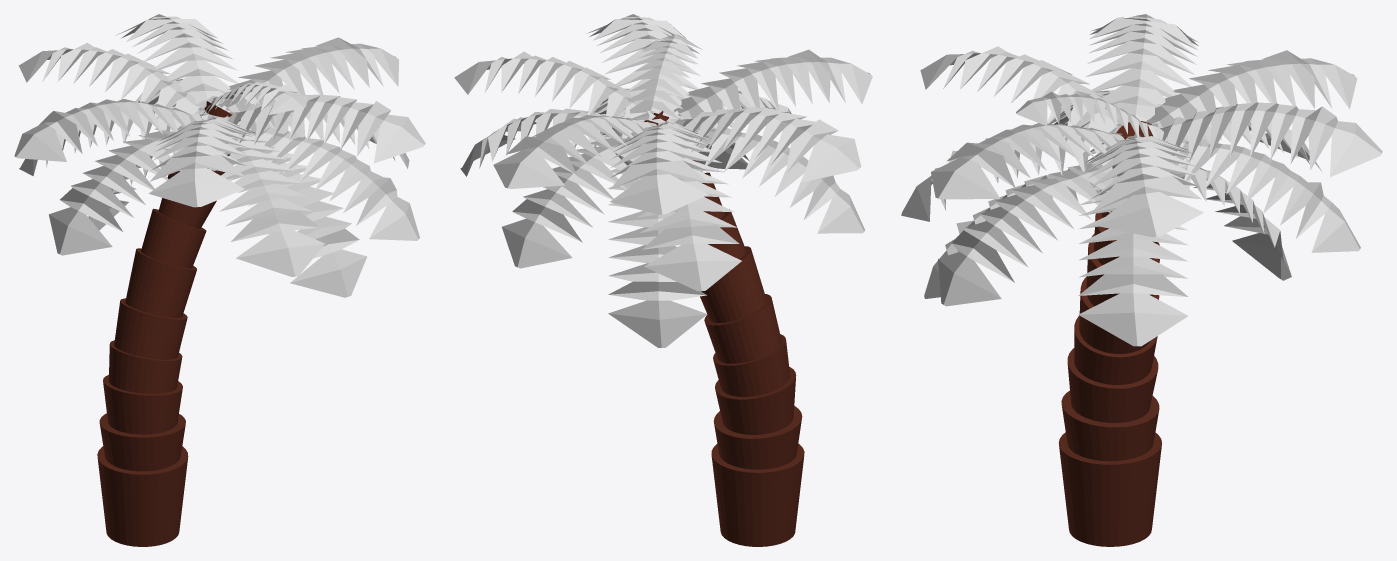
The model's file is CoconutTree FBX.fbx.
3 views of the same model, side by side, from view 1: azimuth 30°, elevation 25°; view 2: azimuth 150°, elevation 25°; view 3: azimuth 270°, elevation 25° (orthographic). The views are drawn at different scales.
Parts seen in each view (by area): view 1: Plane.005, Cylinder, Plane.014; view 2: Plane.005, Cylinder, Plane.014; view 3: Plane.005, Cylinder, Plane.014.
Boxes of the visible parts, x1=… form: Plane.005: x1=14, y1=14, x2=425, y2=297; Cylinder: x1=97, y1=101, x2=240, y2=546; Plane.014: x1=195, y1=82, x2=307, y2=116; Plane.005: x1=454, y1=14, x2=872, y2=347; Cylinder: x1=644, y1=111, x2=804, y2=546; Plane.014: x1=623, y1=34, x2=702, y2=123; Plane.005: x1=901, y1=14, x2=1382, y2=346; Cylinder: x1=1058, y1=121, x2=1161, y2=546; Plane.014: x1=1016, y1=91, x2=1163, y2=139.
Size of the model in its own units: 924 by 981 by 870.
